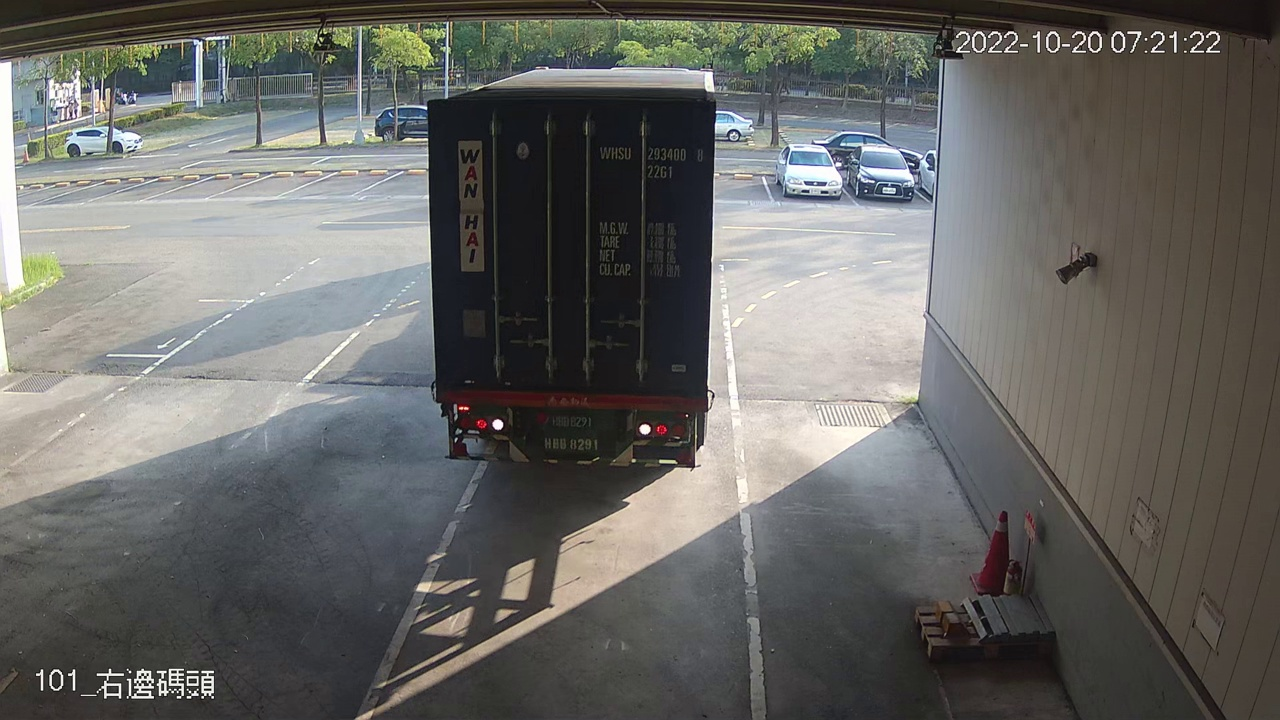container: (592, 137, 710, 184)
